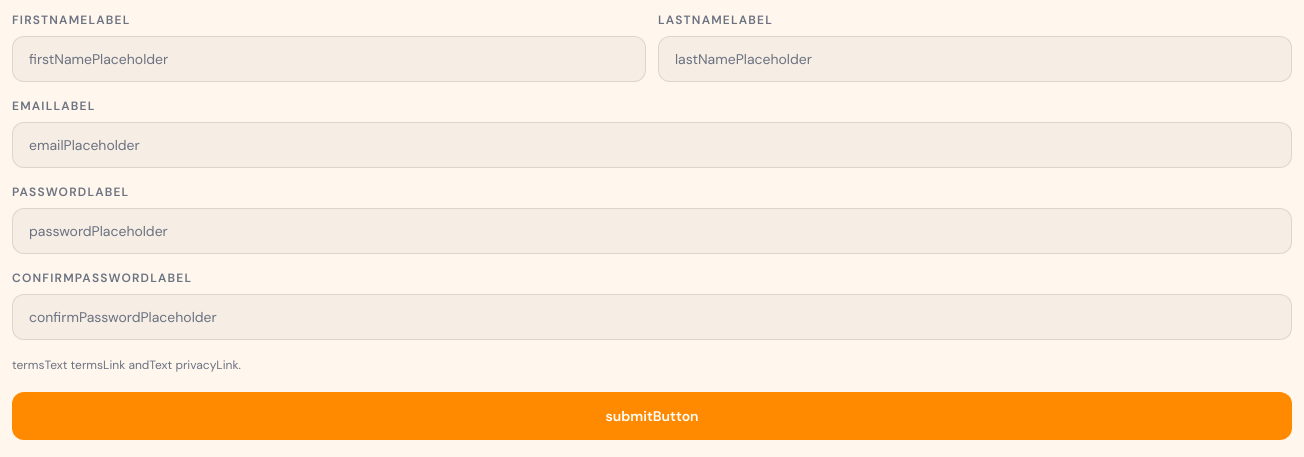
Scenario: RegisterForm › shows a check mark (✓) when passwords match
Type "password123" into the password field labelled "passwordLabel". click: [652, 231]
box: [12,208,1292,254]
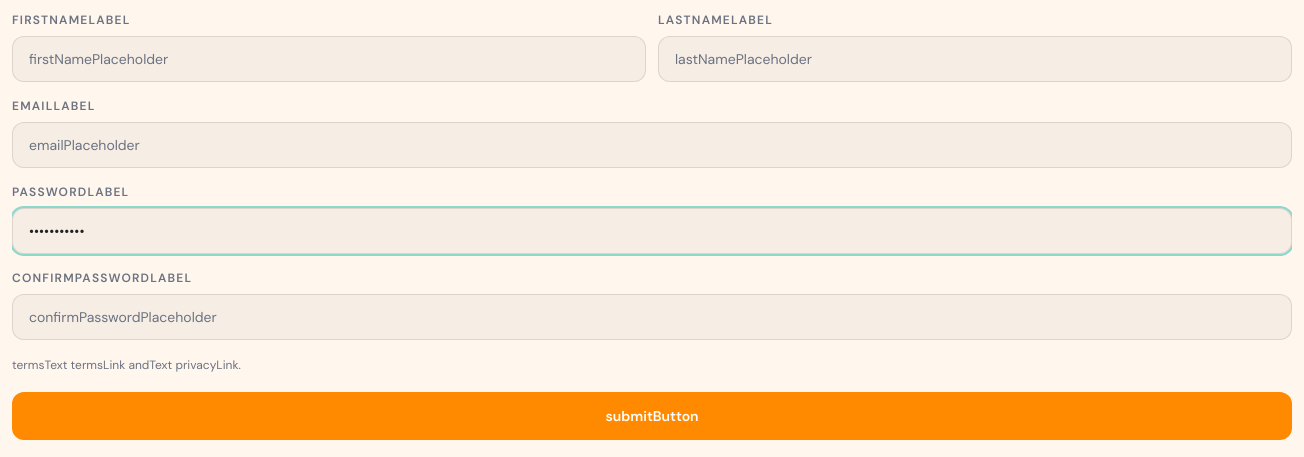
Type "password123" into the password field labelled "confirmPasswordLabel". click: [652, 317]
box: [12,294,1292,340]
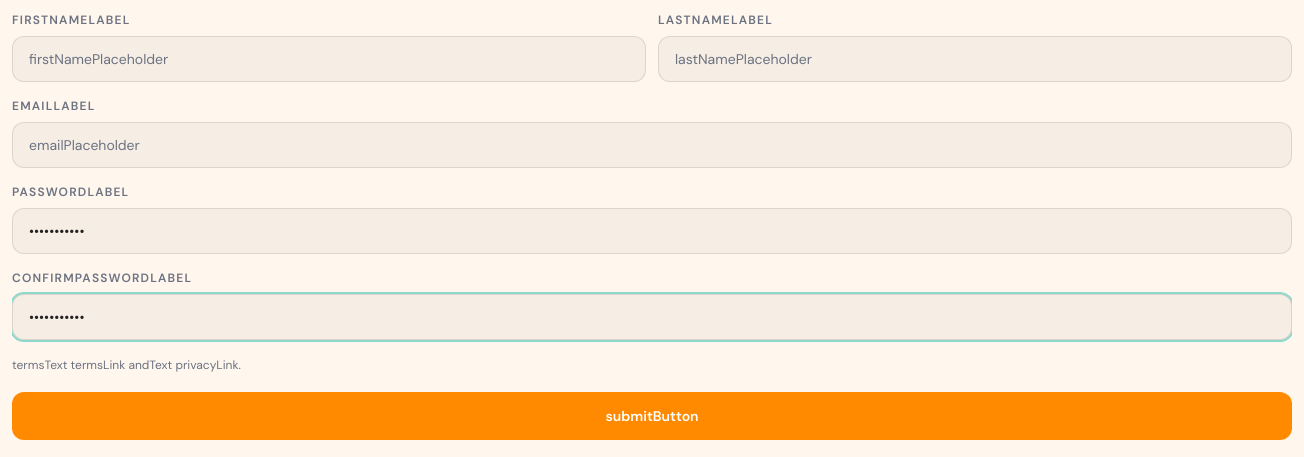
Leave the password field labelled "confirmPasswordLabel", box [12,294,1292,340]
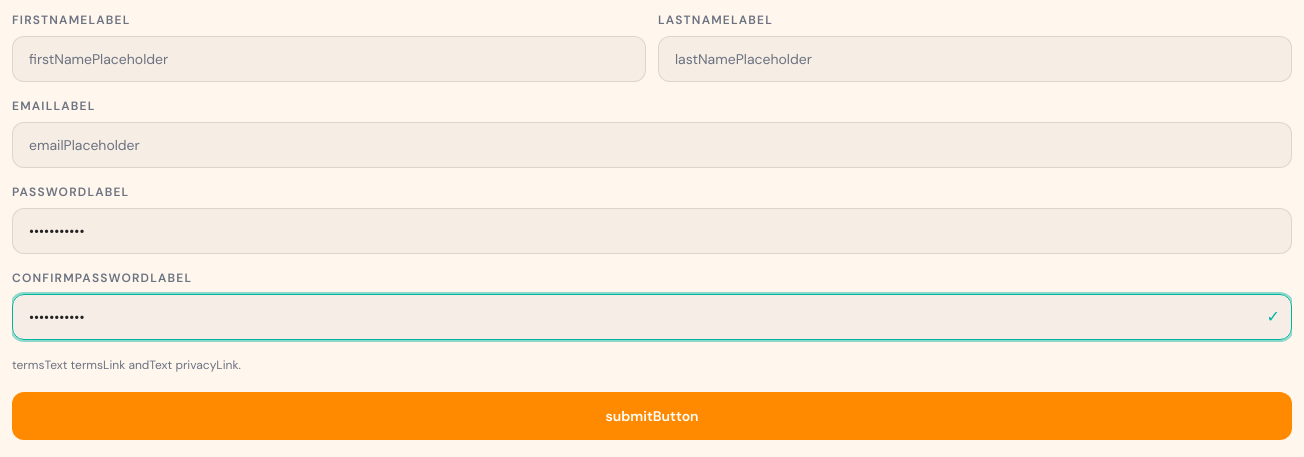
Check: the text "✓" is shown, box [1267,305,1280,329]
